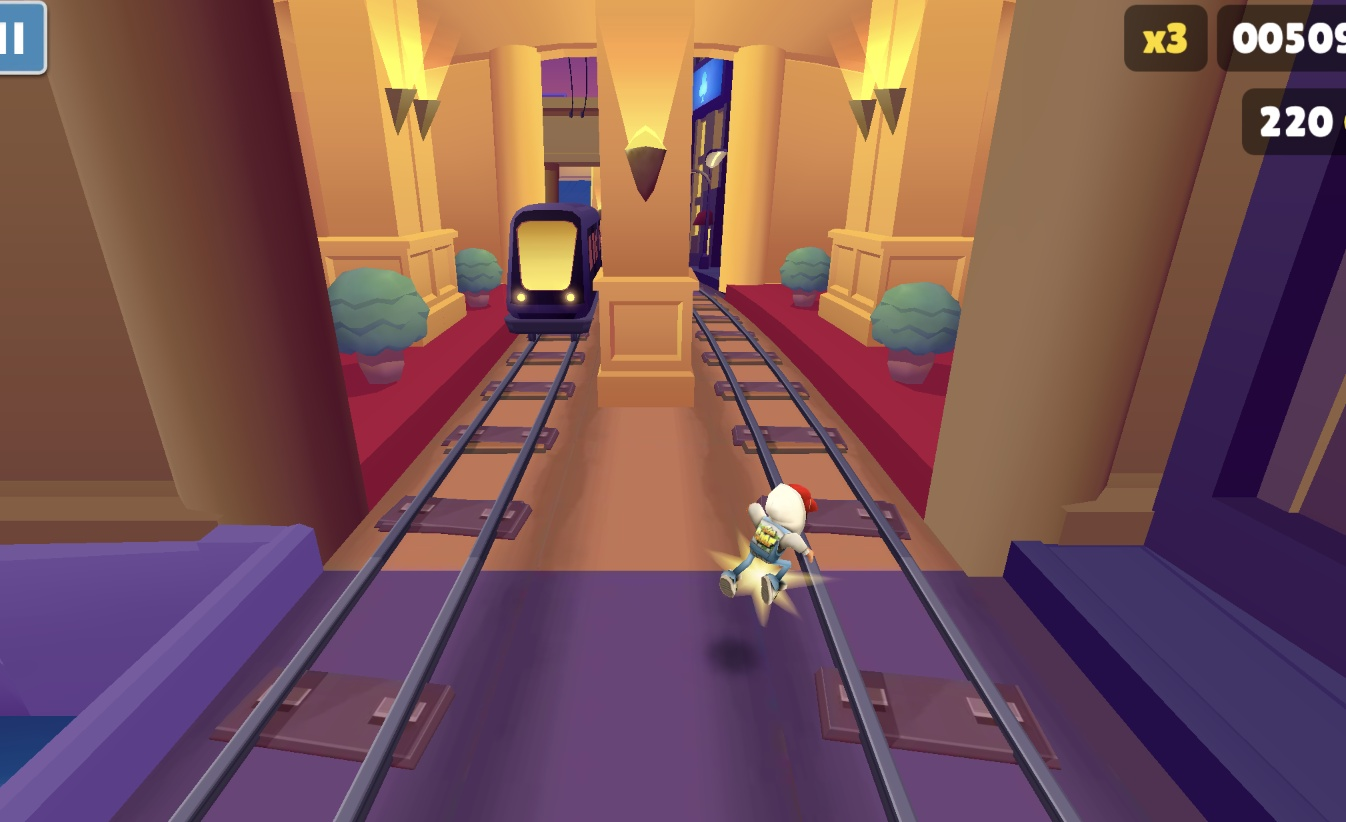pillar: (594, 0, 694, 416)
train: (504, 202, 604, 334)
